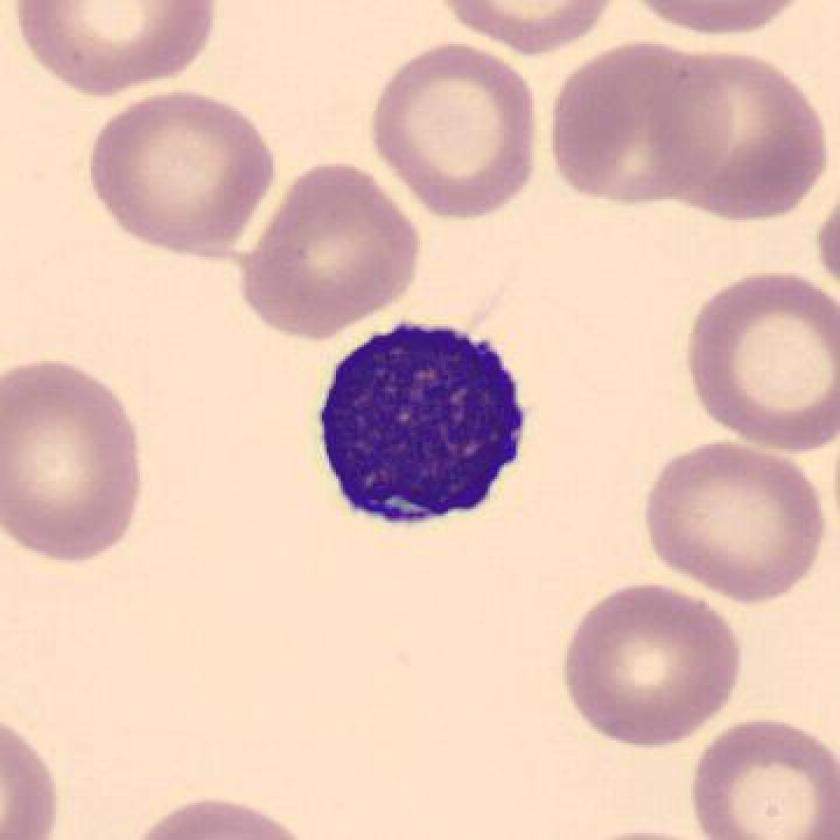lymphocyte: (302, 309, 540, 538)
